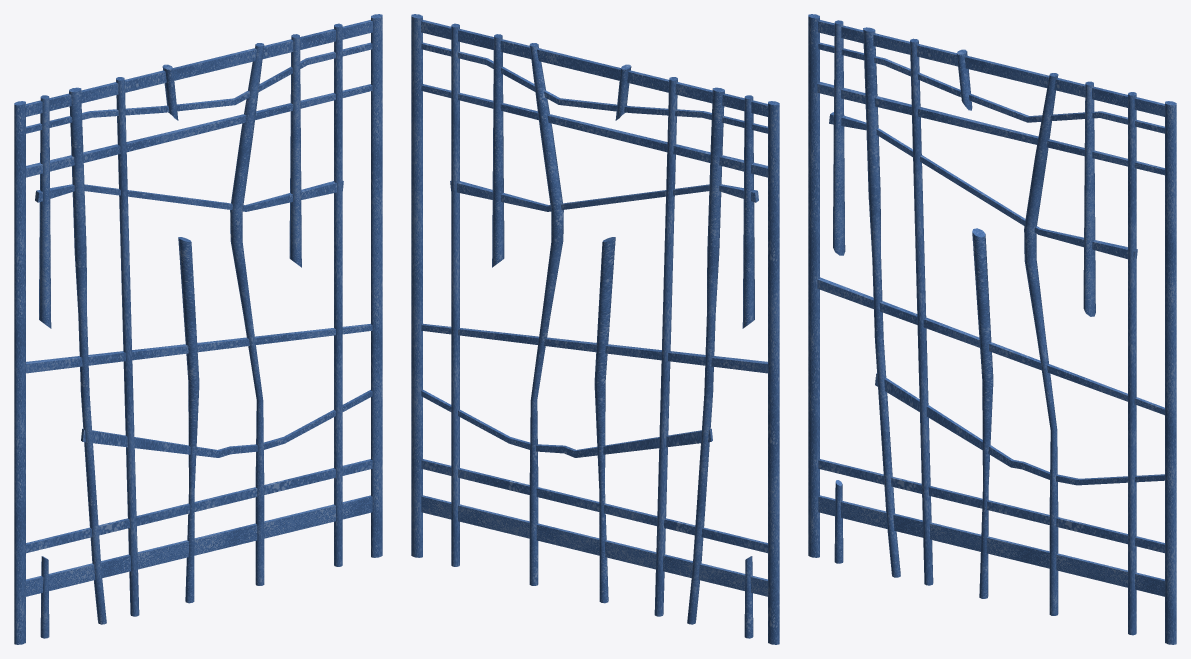
3 views of the same model, side by side, from view 1: azimuth 30°, elevation 25°; view 2: azimuth 150°, elevation 25°; view 3: azimuth 330°, elevation 25° (orthographic).
Visible parts, largest first — view 1: lattice; view 2: lattice; view 3: lattice.
Part boxes in pixels (x1,y1,x2,y2): lattice: [14, 14, 382, 644]; lattice: [411, 14, 779, 644]; lattice: [808, 14, 1176, 644].
Size of the model in its own units: 248 by 348 by 9.07.
1 material, 1 textured.
